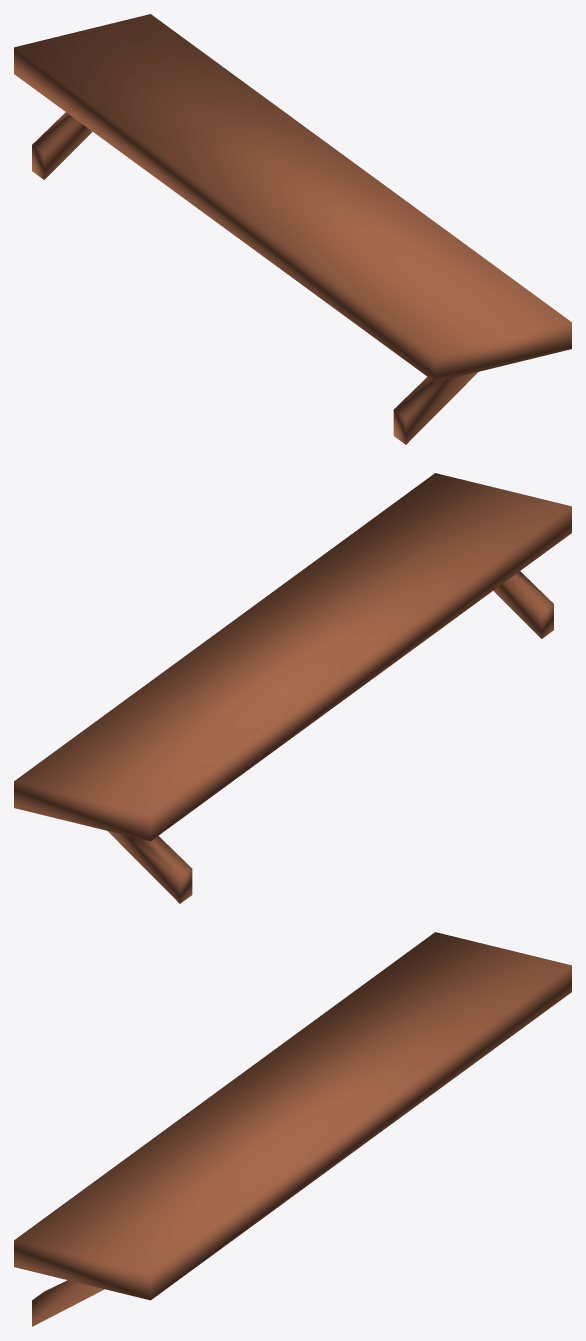
File: Shelf.fbx
3 views of the same model, one above another, from view 1: azimuth 30°, elevation 25°; view 2: azimuth 150°, elevation 25°; view 3: azimuth 330°, elevation 25° (orthographic).
Visible parts, largest first — view 1: Estante; view 2: Estante; view 3: Estante.
Boxes of the visible parts, x1=… form: Estante: x1=14, y1=14, x2=571, y2=444; Estante: x1=14, y1=473, x2=571, y2=903; Estante: x1=14, y1=932, x2=571, y2=1326.
Size of the model in its own units: 29.48 by 20.81 by 151.
